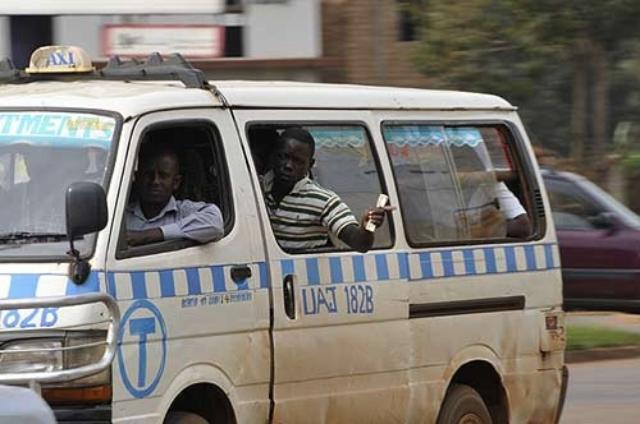van: (0, 45, 570, 424)
